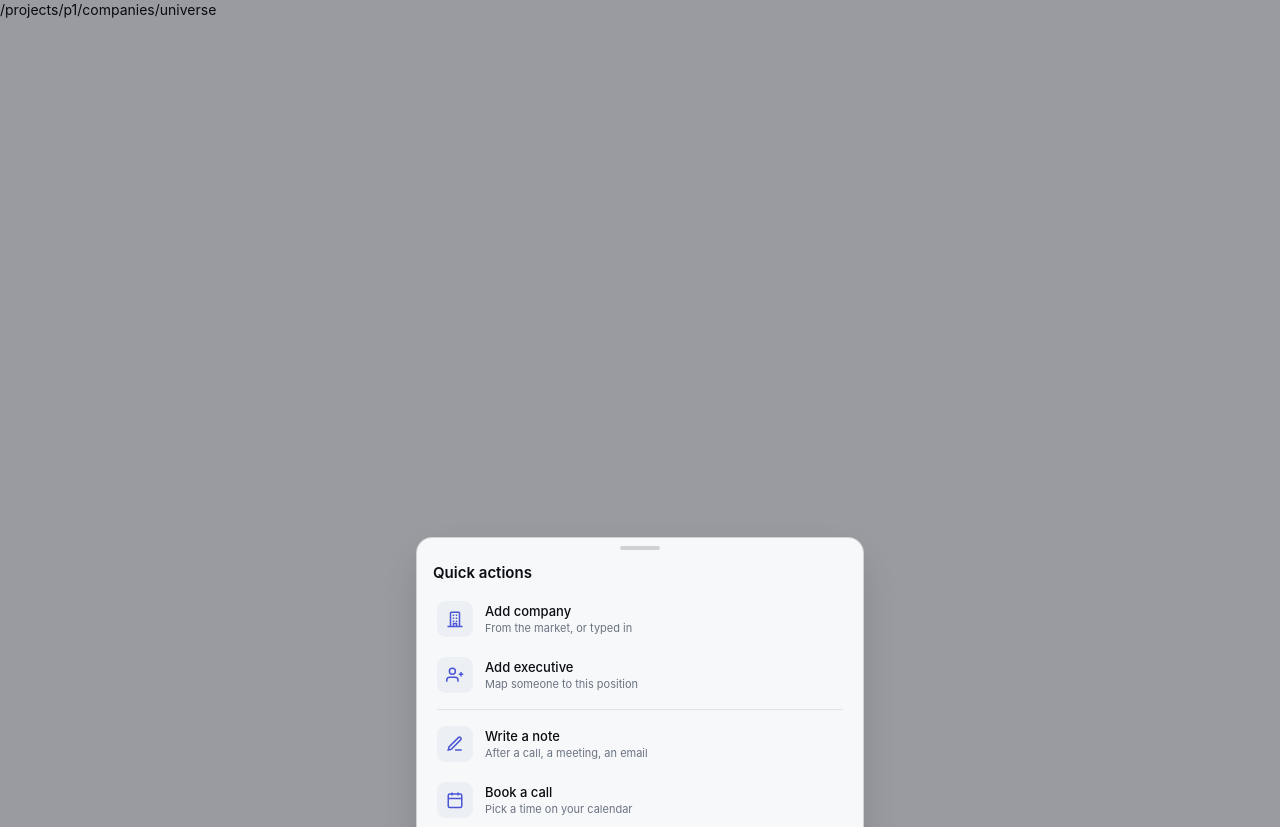
Test case: PositionQuickActions › opens the picked executive's drawer on Notes by its link, not by the remembered tab
Click the button "Write a note After a call, a meeting, an email". click: (640, 744)
box: [425, 716, 855, 772]
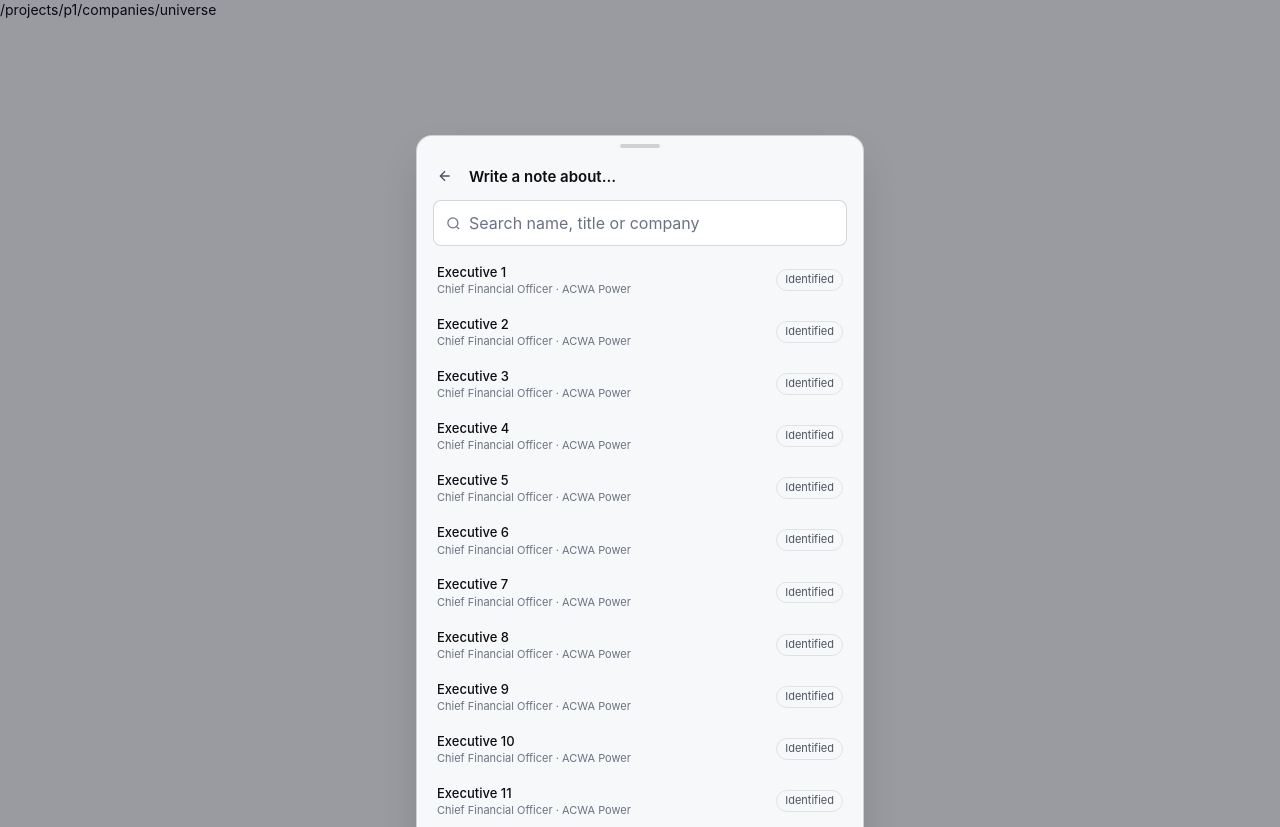
Click the button "Executive 3 Chief Financial Officer · ACWA Power Identified". click: (473, 376)
box: [425, 358, 855, 410]
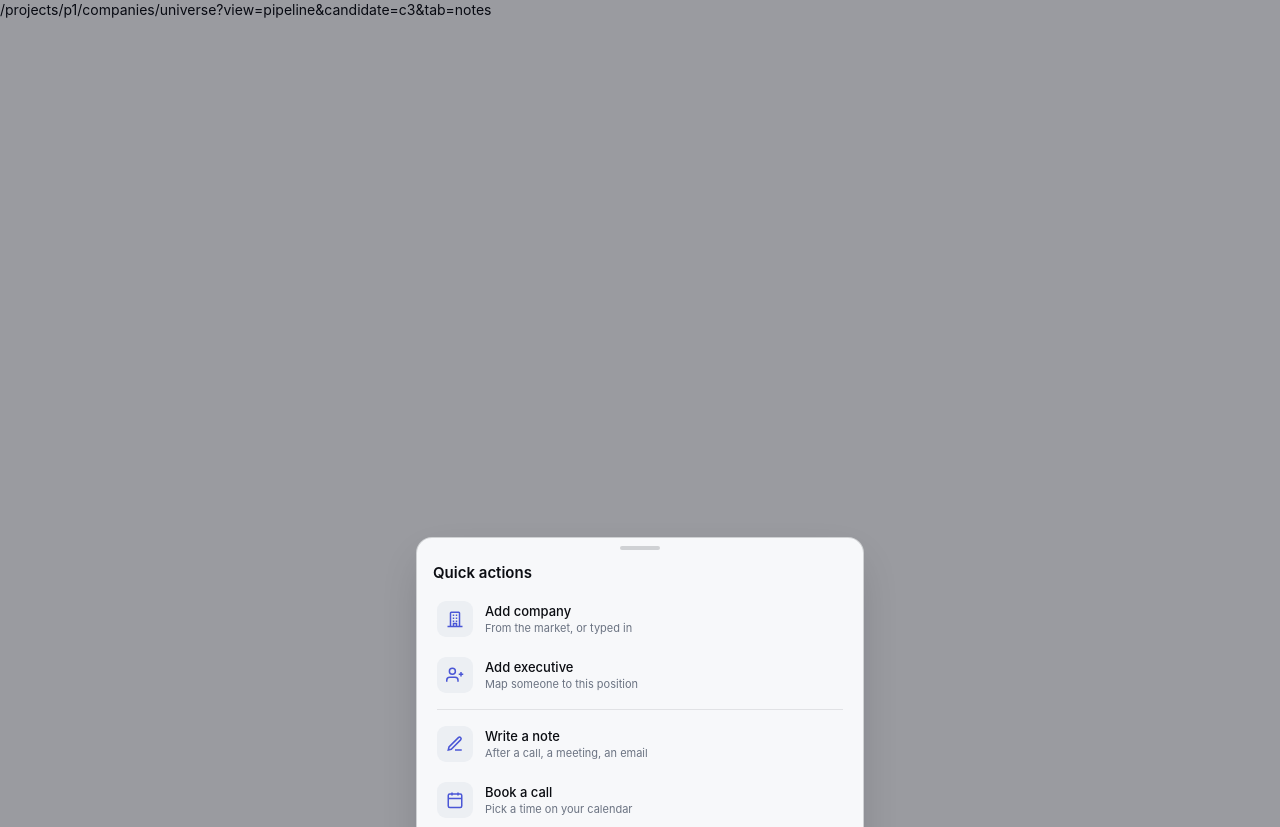
Check: the text with test id "landed" reads "/projects/p1/companies/universe?view=pipeline&candidate=c3&tab=notes", box [0, 1, 492, 18]
